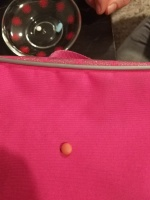Dolorex: (60, 141, 73, 156)
